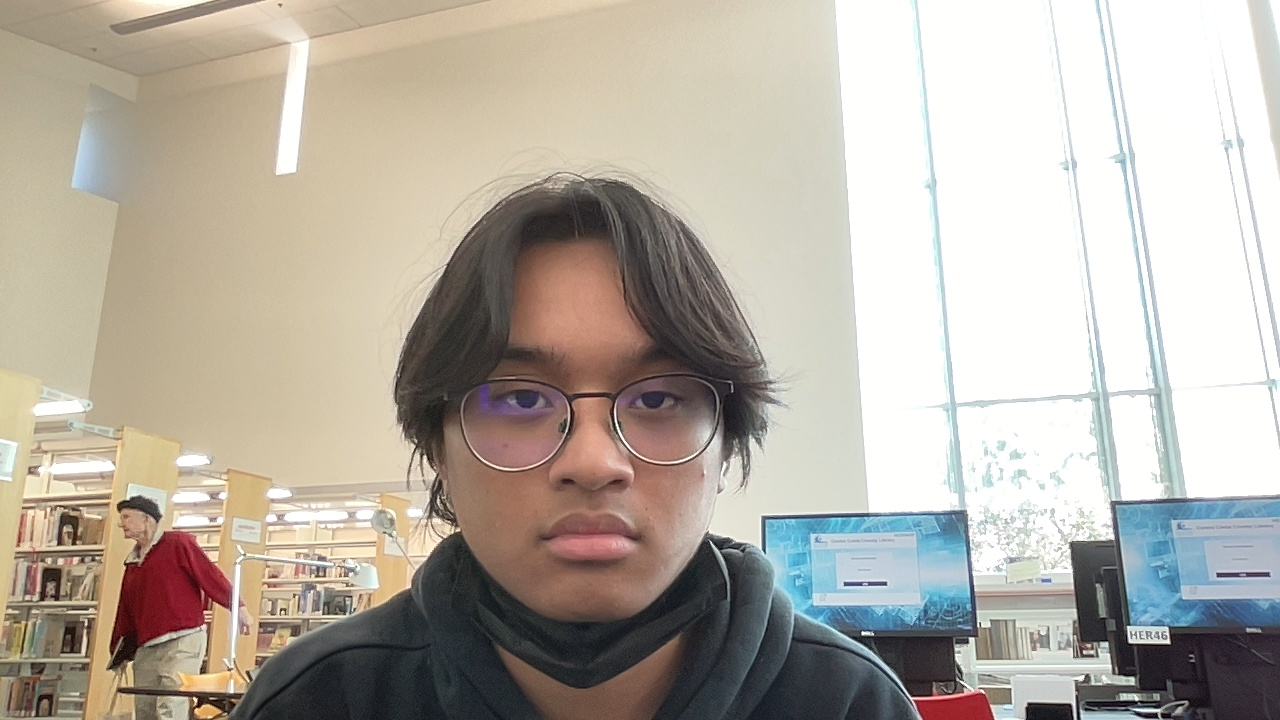neutral: (430, 239, 736, 623)
